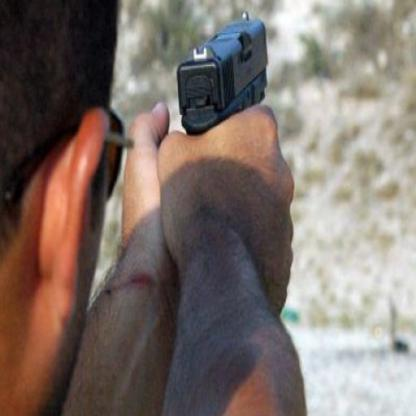gun: (172, 5, 271, 137)
